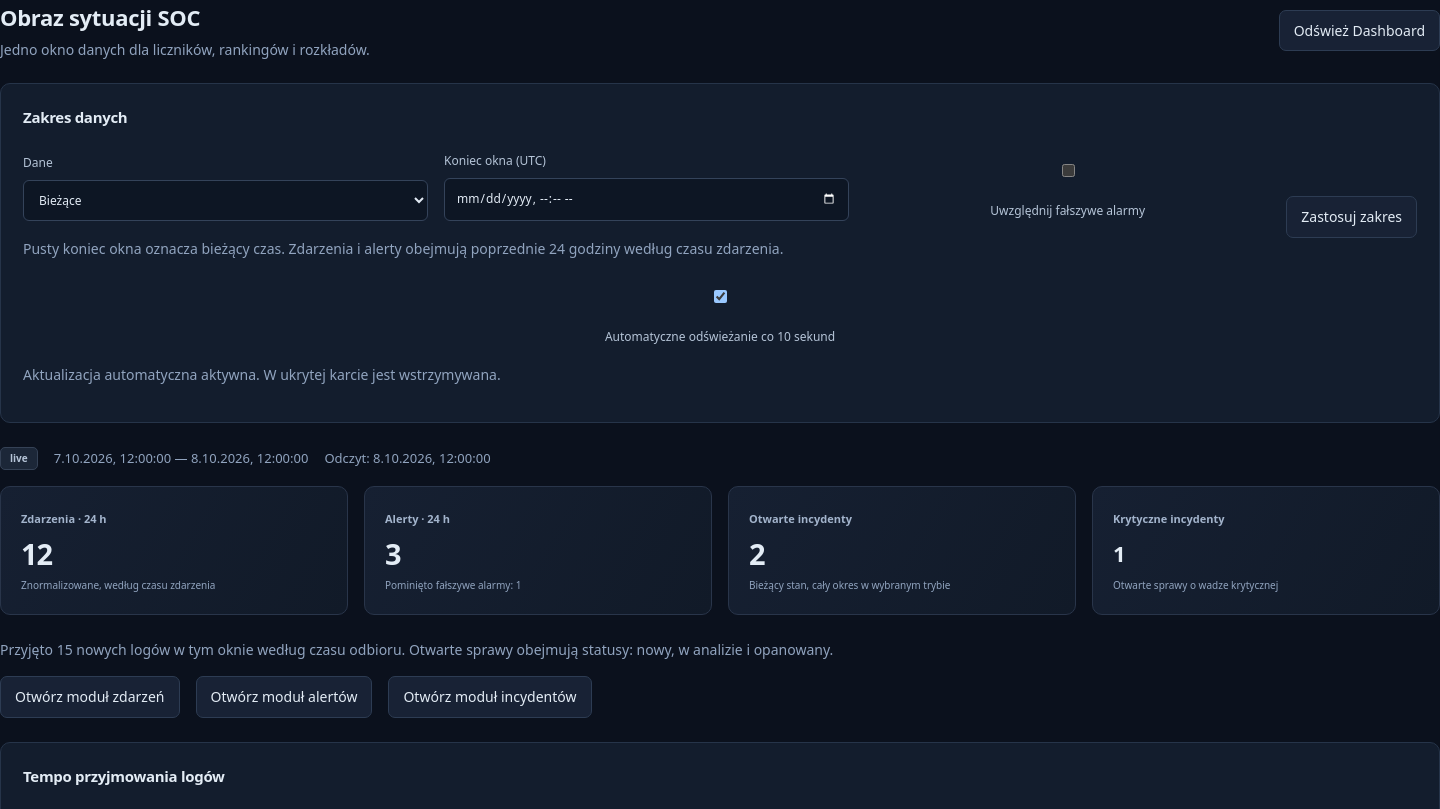
Scenario: requires an exact replay scope before changing the displayed report
The width and height of the screenshot is (1440, 809).
Expected: the text "Zdarzenia · 24 h" is shown, [21,511,107,526]
Select "Replay" in the dropdown labelled "Dane" at point(226, 200), box [23,180,428,221]
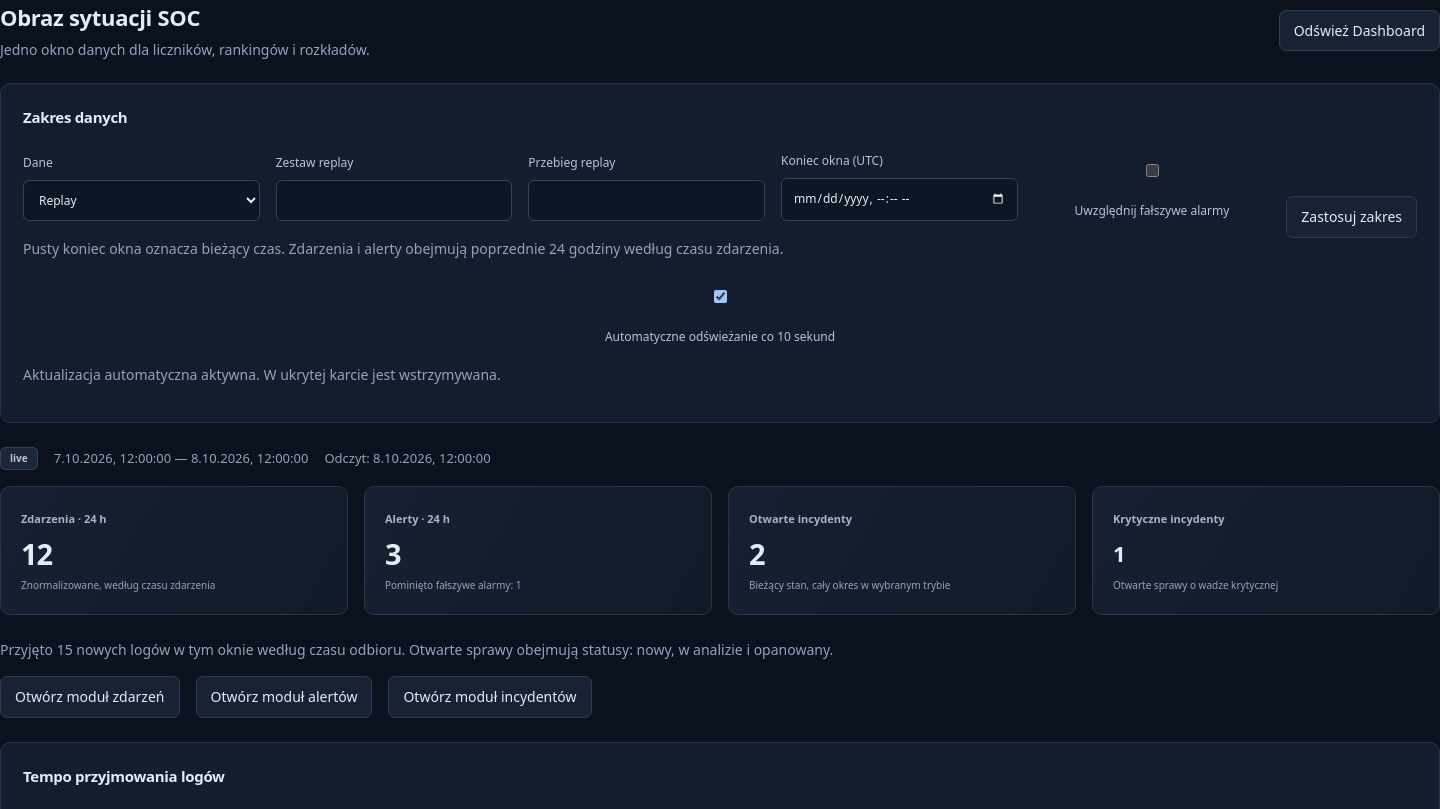
Type "invalid" into the field labelled "Zestaw replay".
click(394, 200); type("invalid")  # box [276,180,512,221]
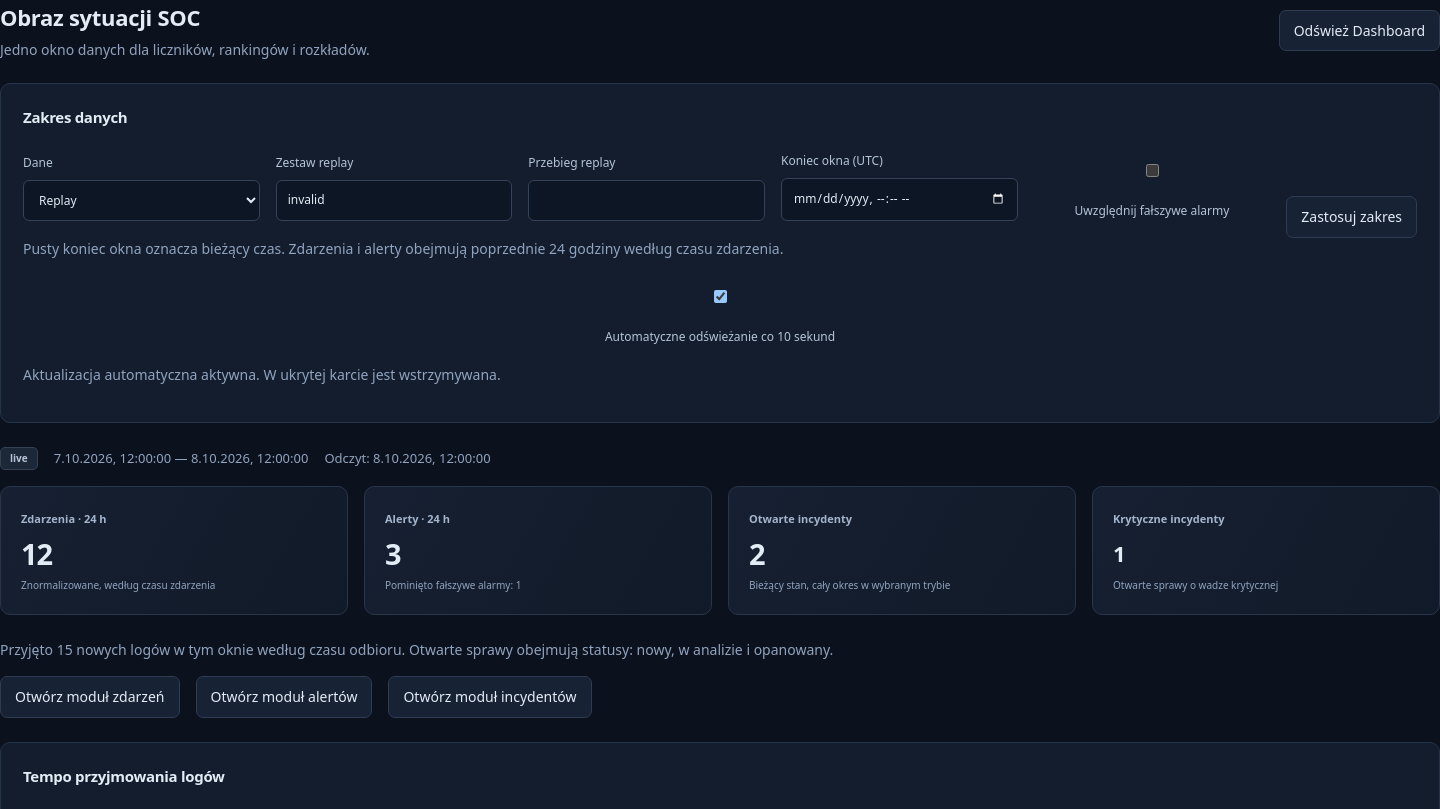
Type "invalid" into the field labelled "Przebieg replay".
click(647, 200); type("invalid")  # box [528,180,765,221]
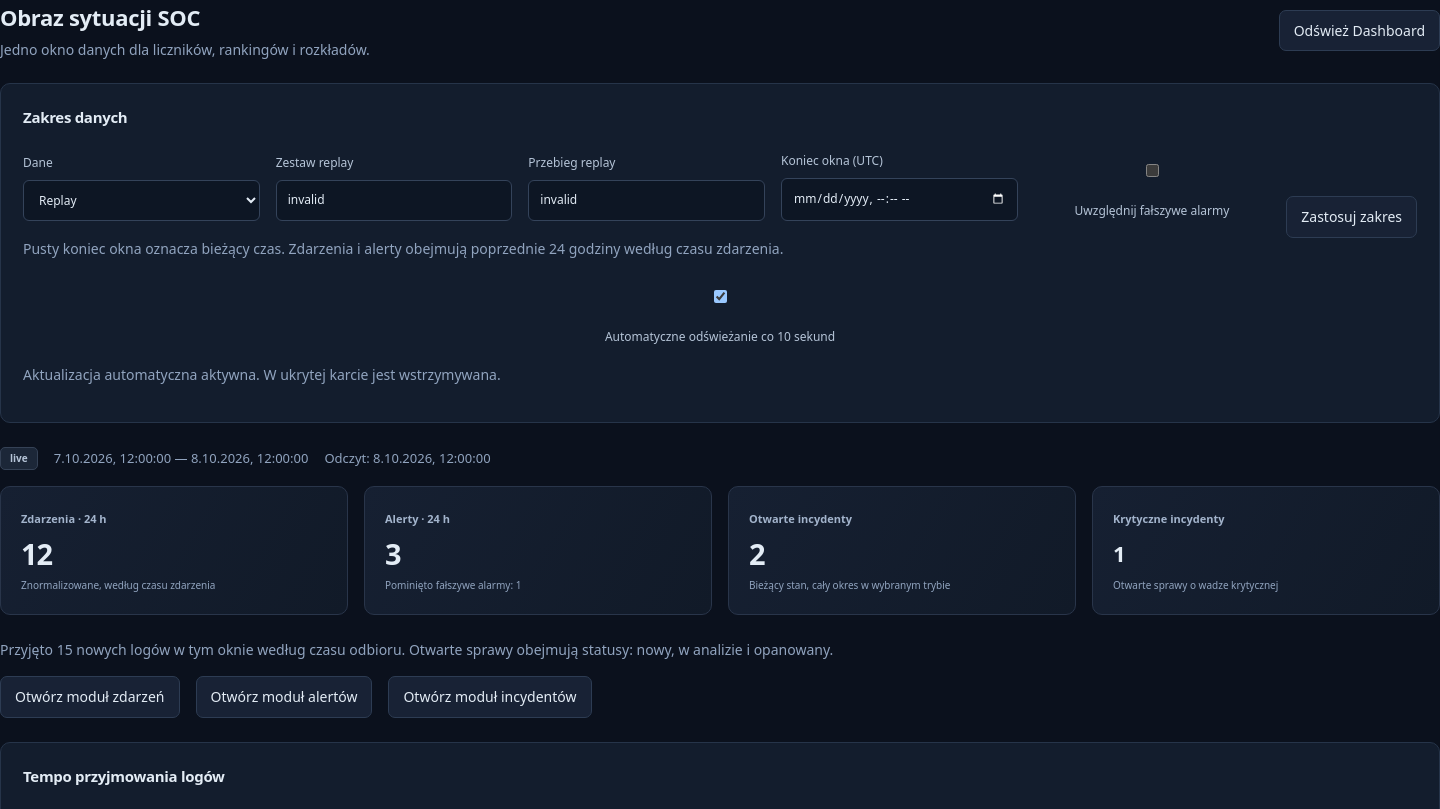
Click the button "Zastosuj zakres".
click(1352, 217)  # box [1286,196,1417,238]
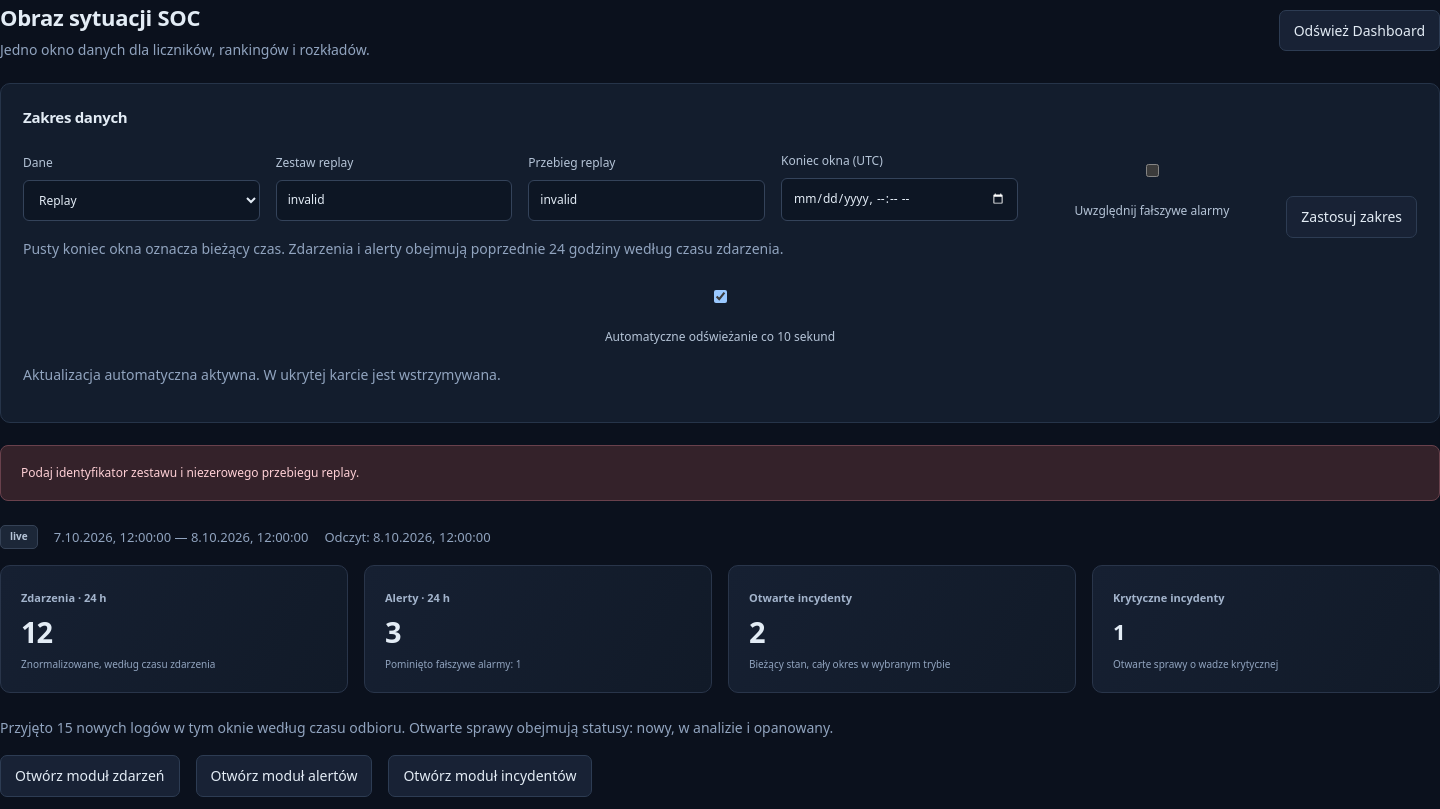
Result: the message "Podaj identyfikator zestawu i niezerowego przebiegu replay." is shown at [0,445,1439,501]
